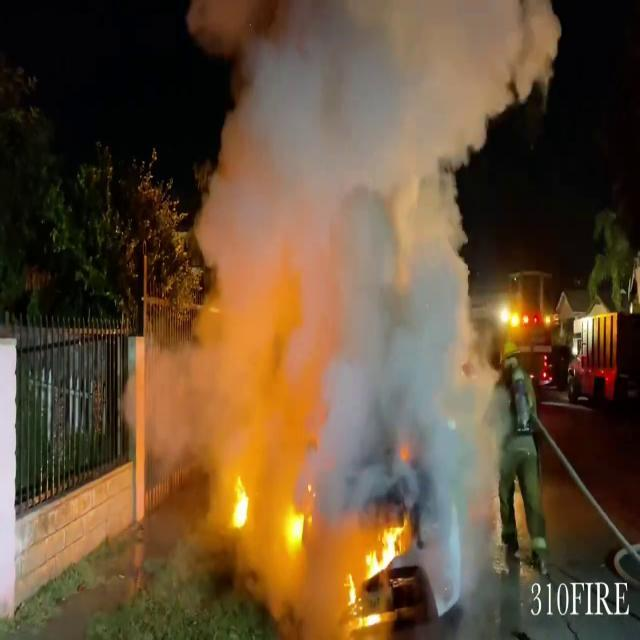Fire: (342, 513, 418, 611), (228, 471, 252, 533)
Smoke: (131, 0, 531, 501)
